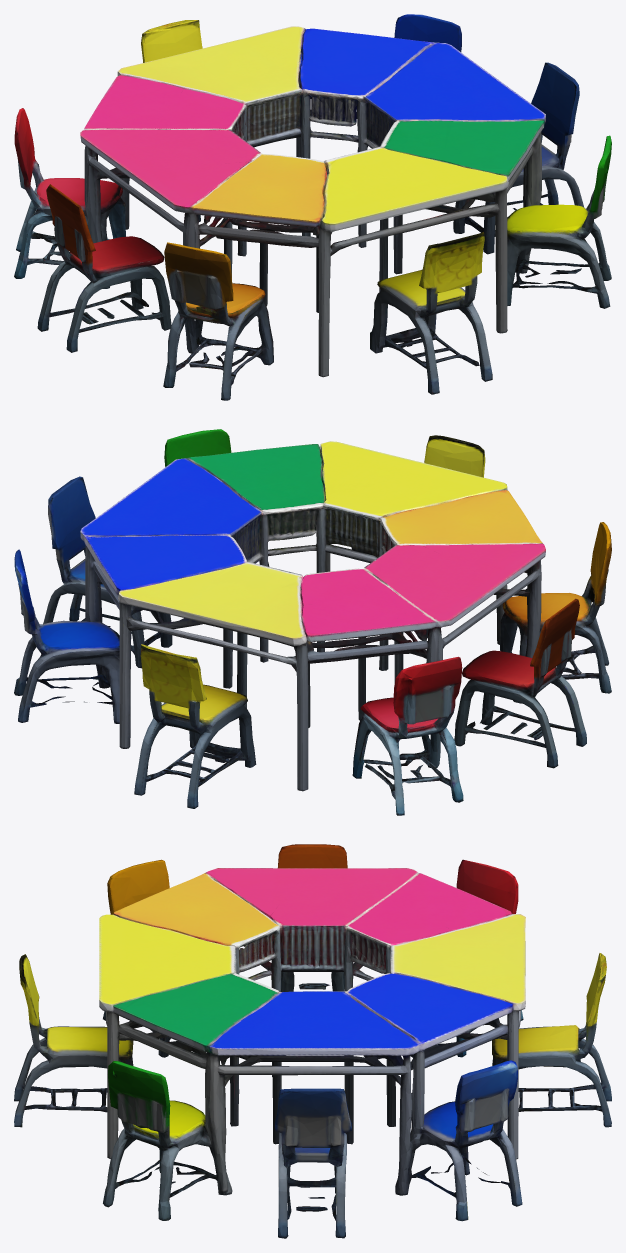
The model's file is table2.glb.
3 renders of one model, top to bottom at view 1: azimuth 30°, elevation 25°; view 2: azimuth 150°, elevation 25°; view 3: azimuth 270°, elevation 25°, orthographic.
Parts seen in each view (by area): view 1: world; view 2: world; view 3: world.
Boxes of the visible parts, x1,y1,x2,y2 form: world: (14,14,611,400); world: (14,429,611,815); world: (14,844,611,1238).
Size of the model in its own units: 0.9994 by 0.2891 by 0.9984.
1 material, 1 textured.
